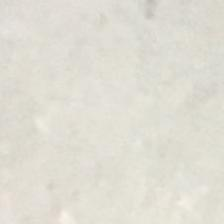Non_Crack: (30, 24, 188, 170)
